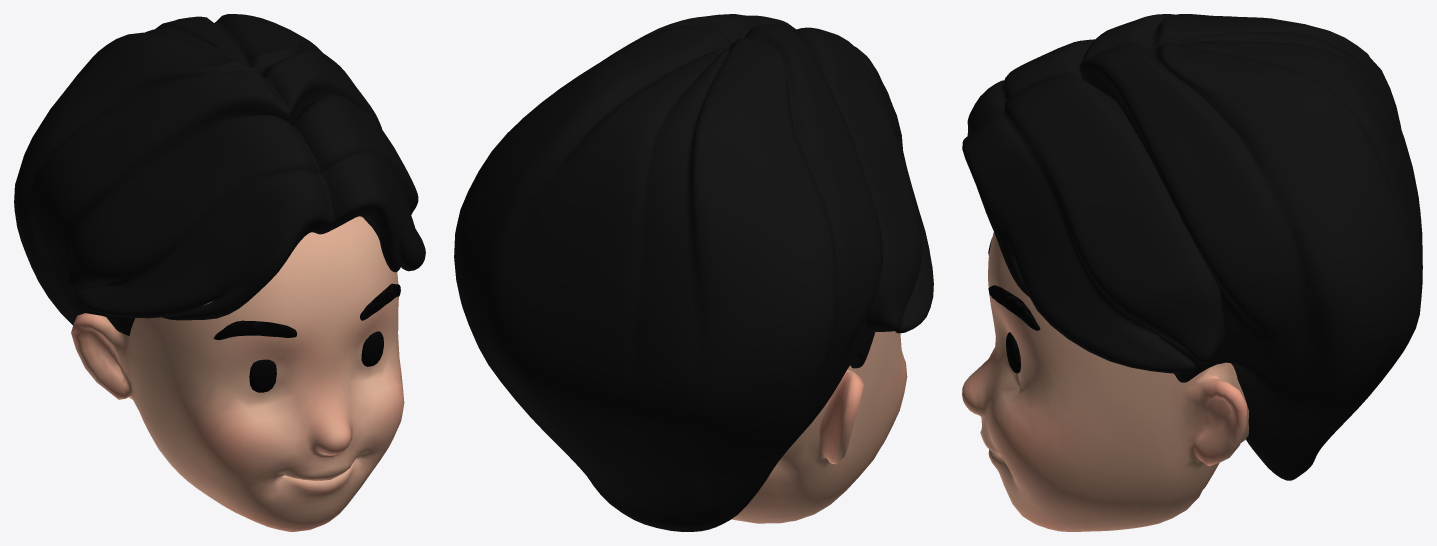
File: ant-t.gltf
3 renders of one model, left to right at view 1: azimuth 30°, elevation 25°; view 2: azimuth 150°, elevation 25°; view 3: azimuth 270°, elevation 25°, orthographic. The views are drawn at different scales.
Visible parts, largest first — view 1: Hair_16, head, eyebrows.001, eyes.001; view 2: Hair_16, head; view 3: Hair_16, head, eyebrows.001.
Boxes of the visible parts, box(x1,y1,x2,y2) form: Hair_16: box(14, 14, 425, 335); head: box(71, 216, 404, 531); eyebrows.001: box(213, 283, 400, 339); eyes.001: box(249, 331, 383, 392); Hair_16: box(454, 14, 933, 531); head: box(732, 331, 907, 523); Hair_16: box(962, 14, 1422, 480); head: box(962, 232, 1248, 531); eyebrows.001: box(988, 238, 1040, 330).
Bounding box in the file's own units: 0.2415 × 0.3006 × 0.2574.
Materials: 4 (1 with a texture image).
